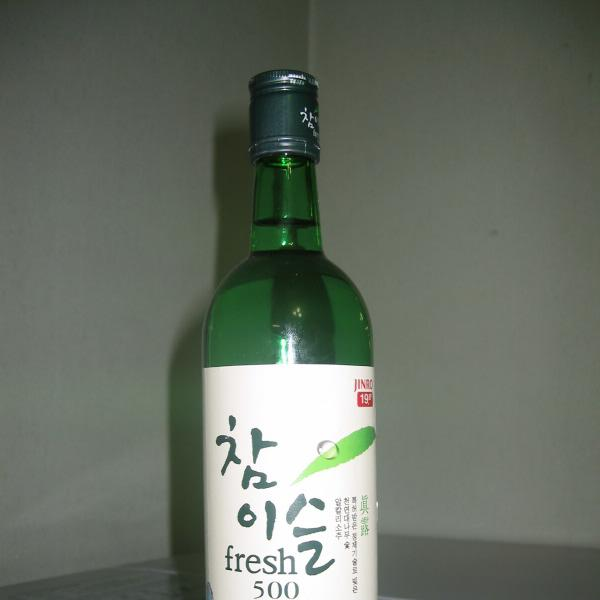soju: (195, 69, 387, 600)
